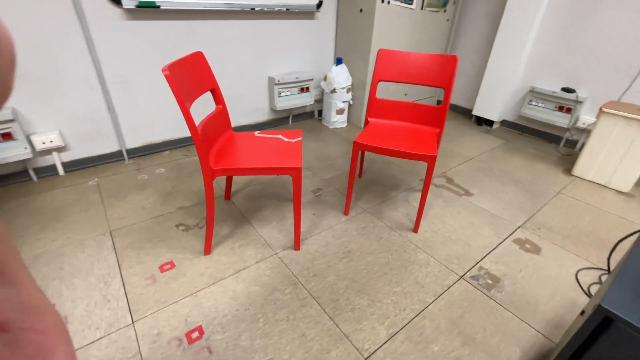Chair: (160, 48, 308, 258), (341, 46, 463, 236)
